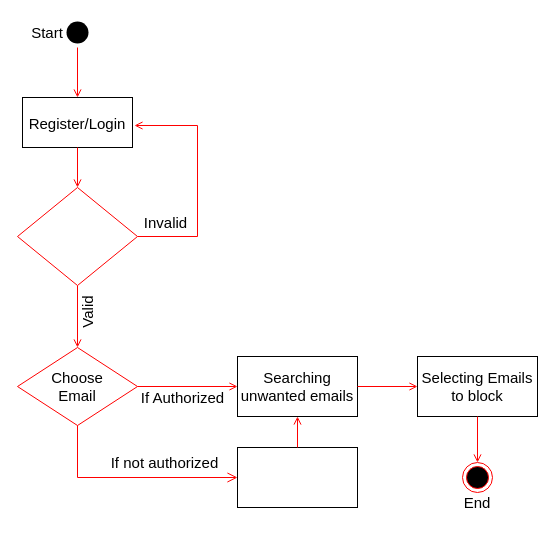
This 555x534 diagram has some shape labels left out. The centre of each missing label's shape, as x and y in pixels:
"Authorization" belongs at (297,477).
"Enters Credentials" belongs at (77,236).
